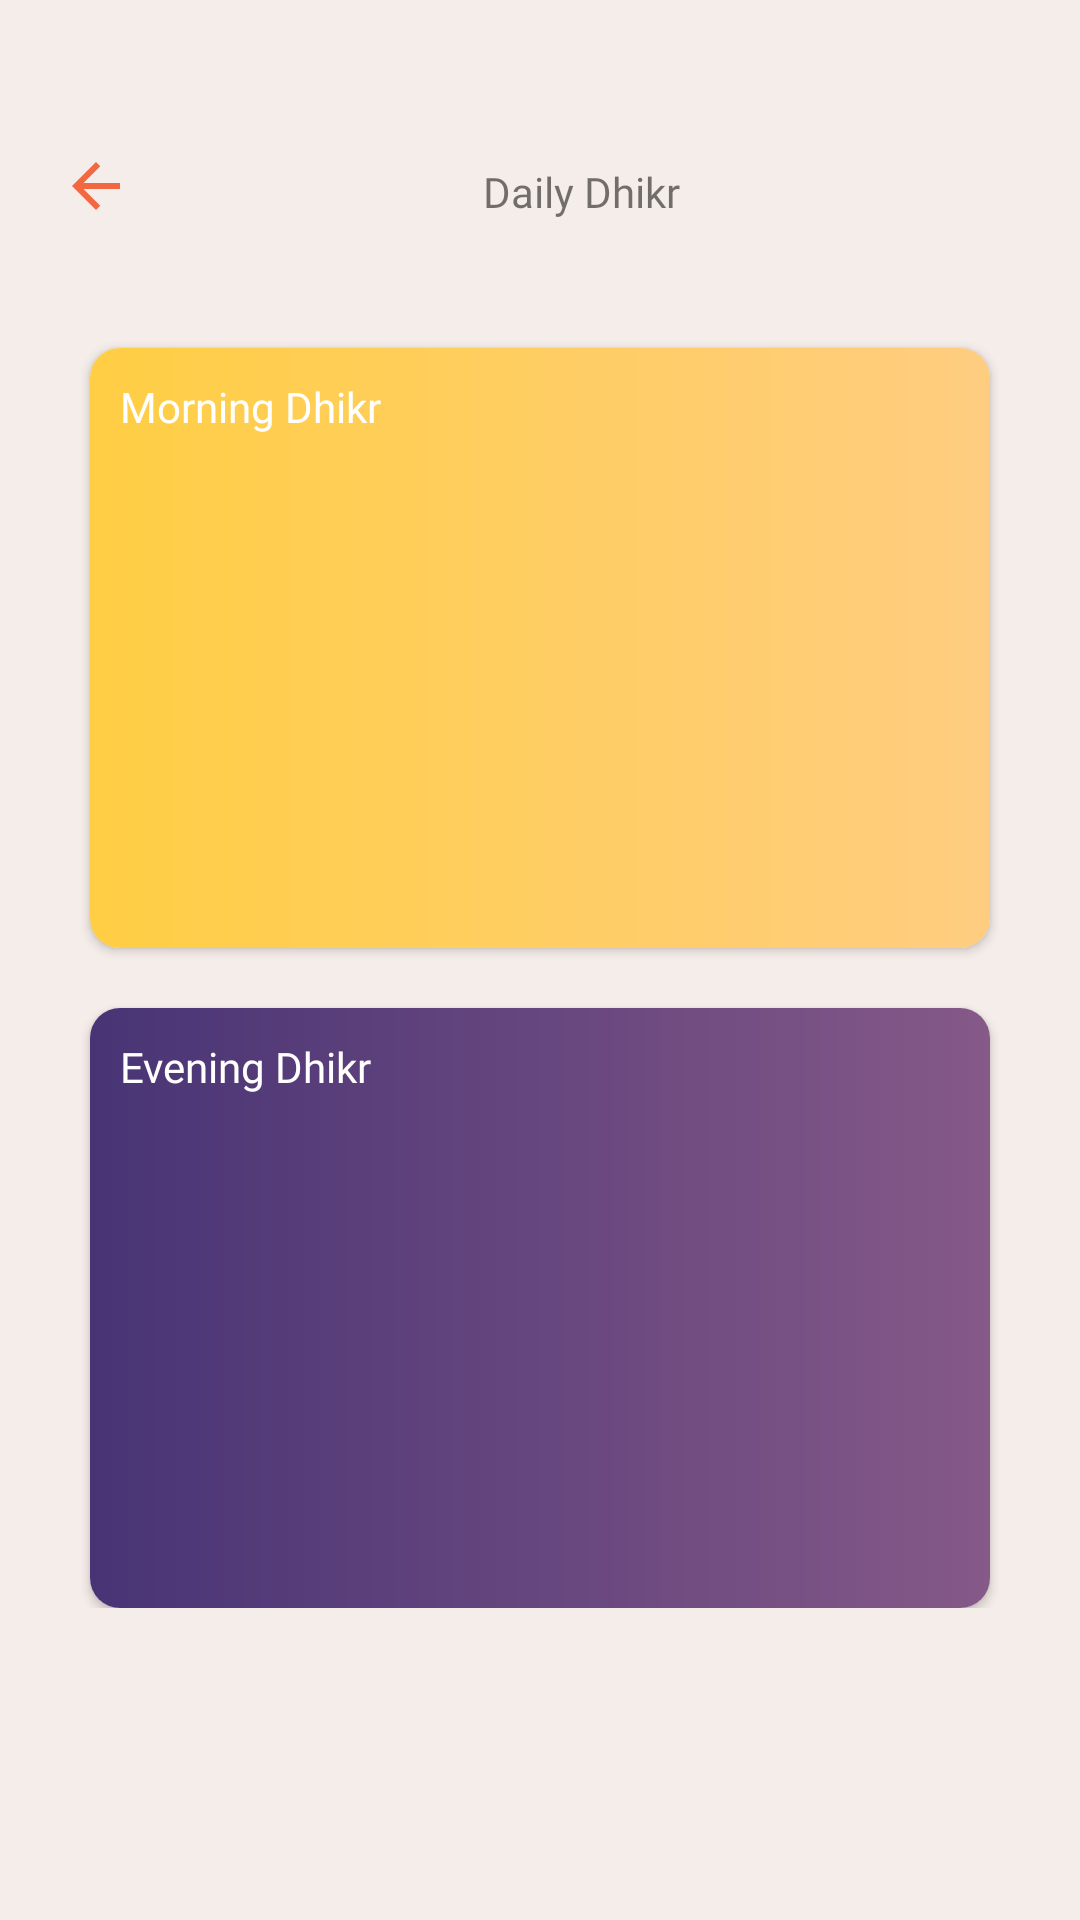

Icons on this 1080 × 1920 Android screen, each with the point to tap as [x,y]:
back: [96,186]
